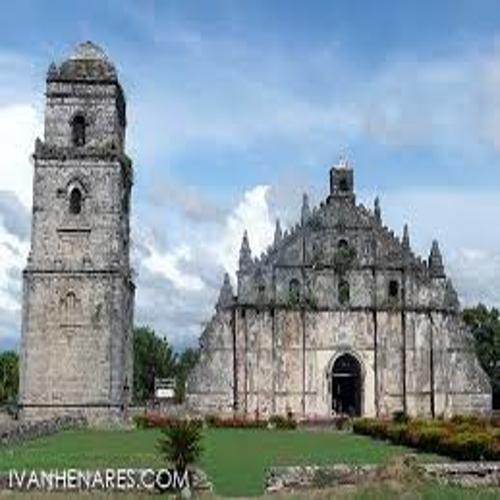Paoay Church: (17, 27, 498, 425)
